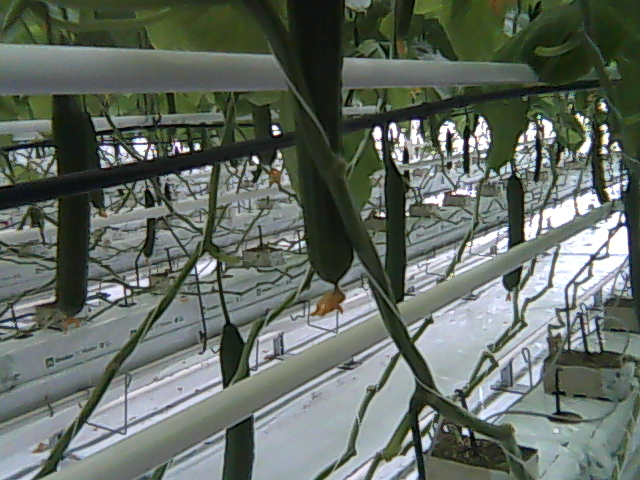concombre: (288, 1, 356, 319)
